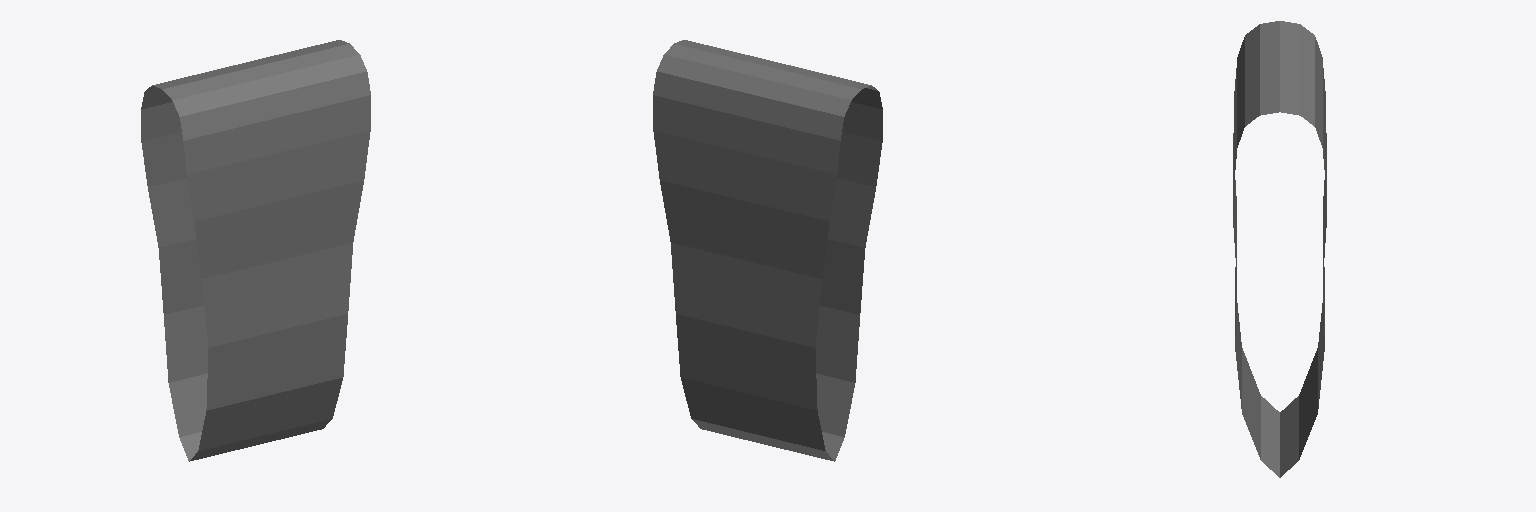
The model's file is ClothDangle.obj.
3 views of the same model, side by side, from view 1: azimuth 30°, elevation 25°; view 2: azimuth 150°, elevation 25°; view 3: azimuth 270°, elevation 25° (orthographic).
Bounding box in the file's own units: 2.8 × 5.4 × 1.21.